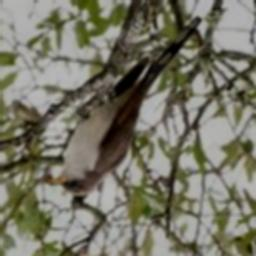Cuckoo: (50, 13, 203, 196)
